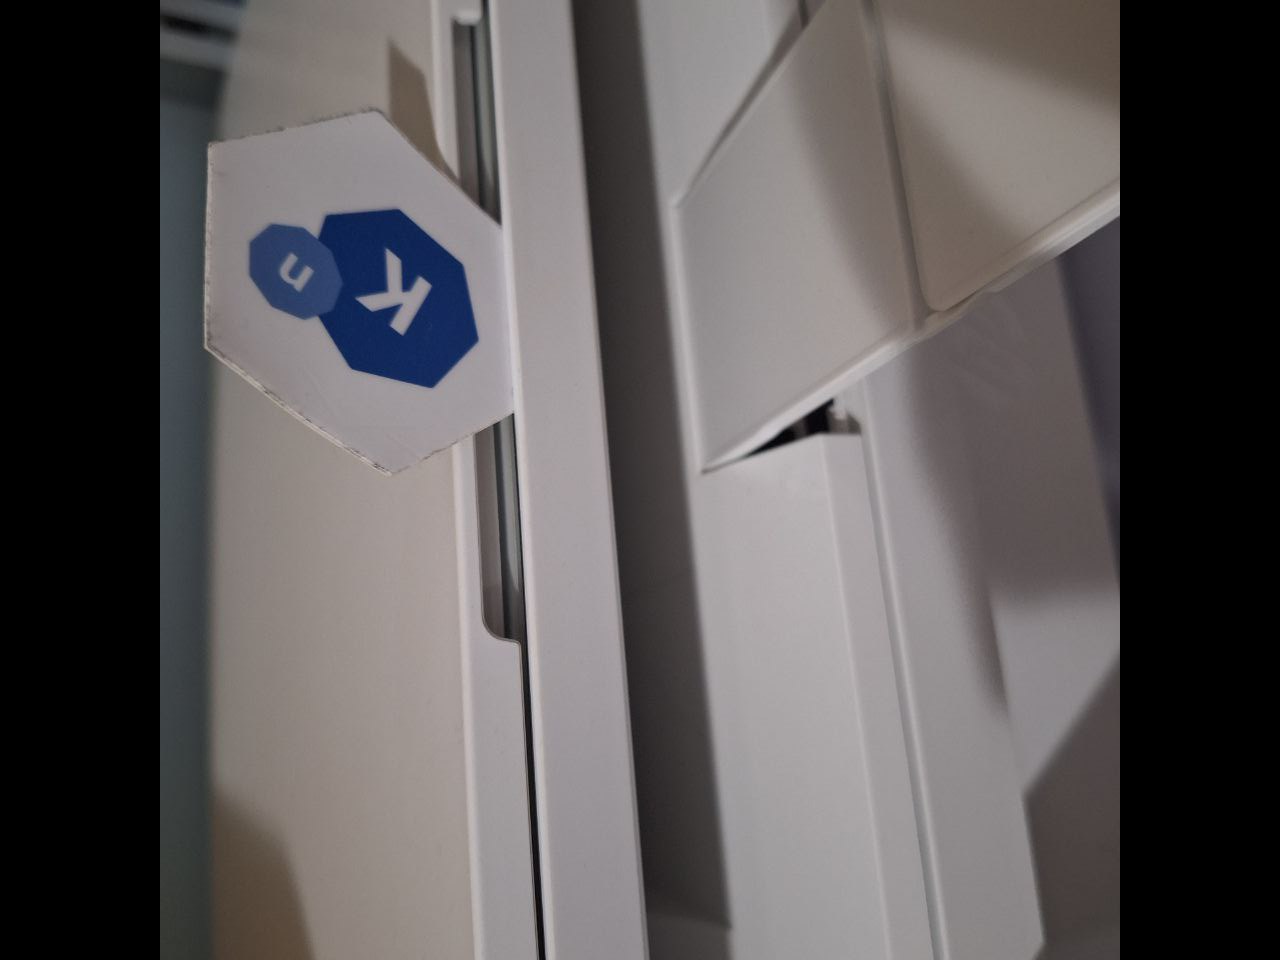knative: (248, 206, 482, 387)
